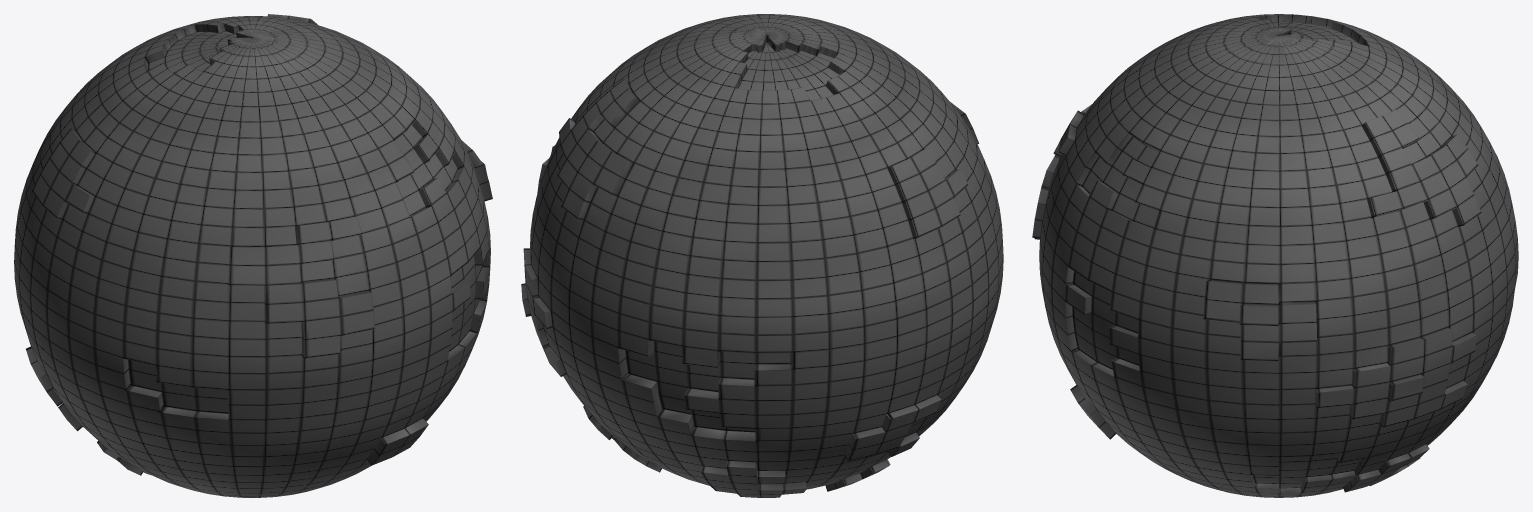
Rendered from HomebaseFBXLevel1.fbx.
The picture shows the model from 3 angles, left to right: view 1: azimuth 30°, elevation 25°; view 2: azimuth 150°, elevation 25°; view 3: azimuth 270°, elevation 25°; orthographic projection.
Visible parts, largest first — view 1: pSphere1; view 2: pSphere1; view 3: pSphere1.
Boxes of the visible parts, box(x1,y1,x2,y2) form: pSphere1: box(14, 14, 492, 497); pSphere1: box(521, 14, 1003, 497); pSphere1: box(1032, 14, 1518, 497).
Size of the model in its own units: 7.77 by 7.63 by 7.65.
Materials: 1 (1 with a texture image).
